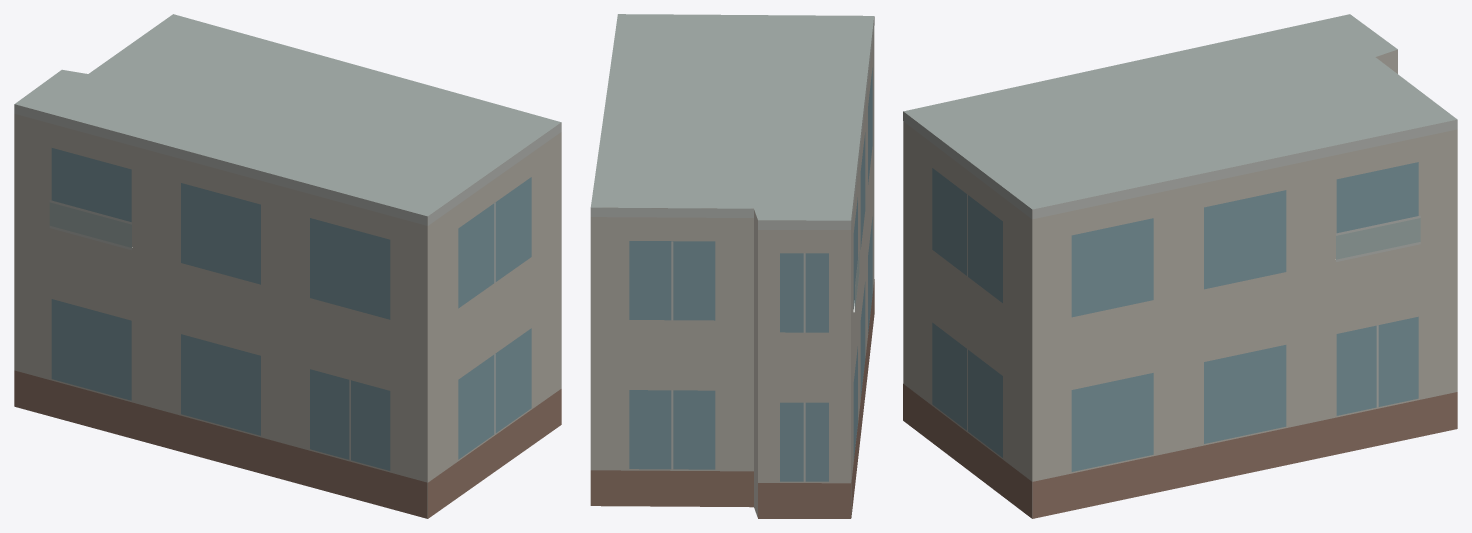
The model's file is survey-upis-32494297.glb.
The picture shows the model from 3 angles, left to right: view 1: azimuth 30°, elevation 25°; view 2: azimuth 150°, elevation 25°; view 3: azimuth 270°, elevation 25°; orthographic projection. The views are drawn at different scales.
Parts seen in each view (by area): view 1: survey-upis-32494297.tmp; view 2: survey-upis-32494297.tmp; view 3: survey-upis-32494297.tmp.
Part boxes in pixels (left/top/right/bottom): survey-upis-32494297.tmp: left=14, top=14, right=561, bottom=518; survey-upis-32494297.tmp: left=590, top=14, right=874, bottom=518; survey-upis-32494297.tmp: left=903, top=14, right=1457, bottom=518.
Size of the model in its own units: 10.45 by 7.7 by 12.52.
